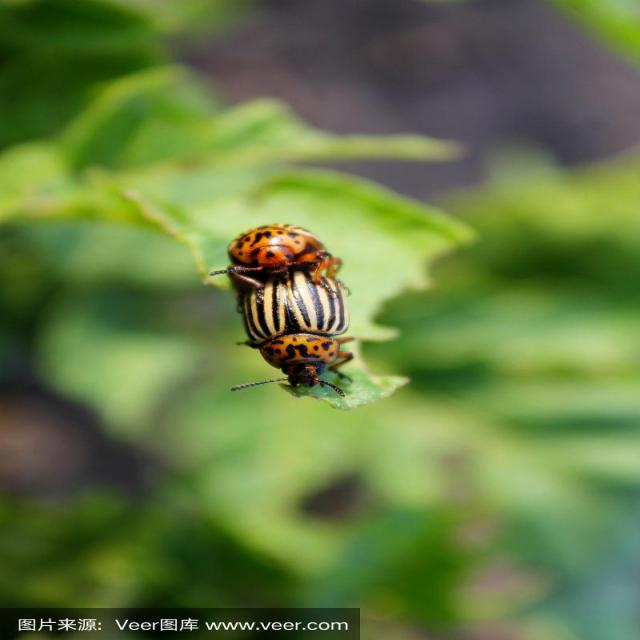ShuCaiHuaBanChong-Grown-: (224, 269, 368, 396), (217, 213, 331, 272)
